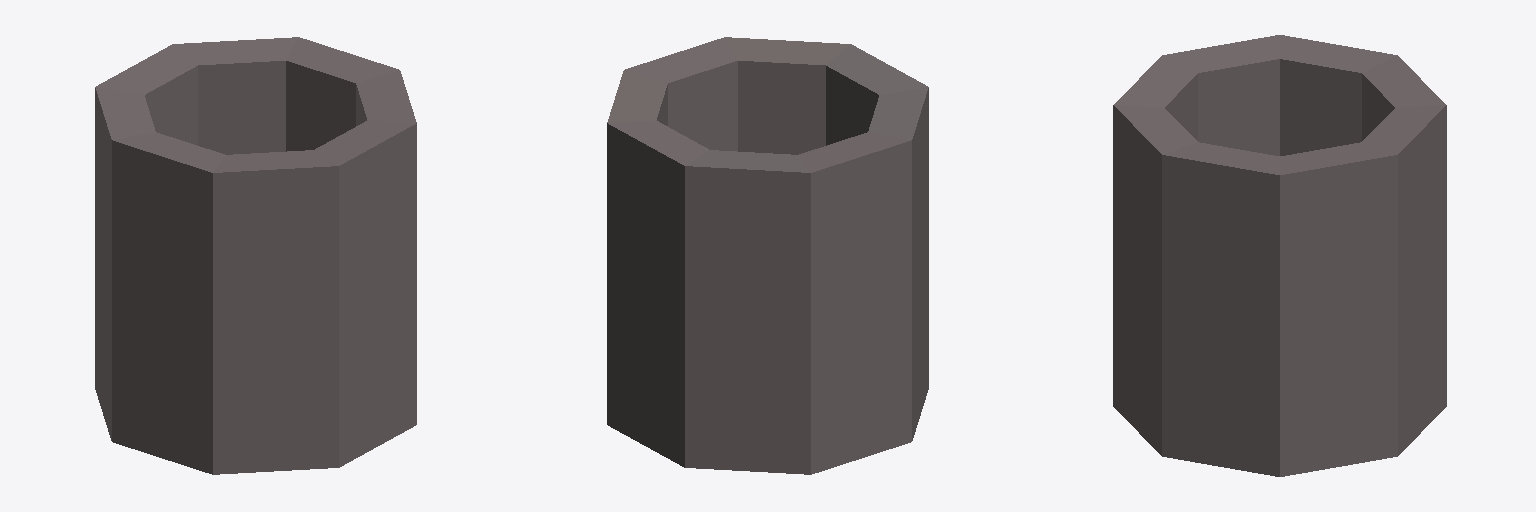
File: CañonArma1.obj
3 renders of one model, left to right at view 1: azimuth 30°, elevation 25°; view 2: azimuth 150°, elevation 25°; view 3: azimuth 270°, elevation 25°, orthographic.
Visible parts, largest first — view 1: CañonArma1; view 2: CañonArma1; view 3: CañonArma1.
Part boxes in pixels (left/top/right/bottom): CañonArma1: left=95, top=37, right=416, bottom=474; CañonArma1: left=607, top=37, right=928, bottom=474; CañonArma1: left=1113, top=35, right=1446, bottom=476.
Size of the model in its own units: 1 by 1 by 1.